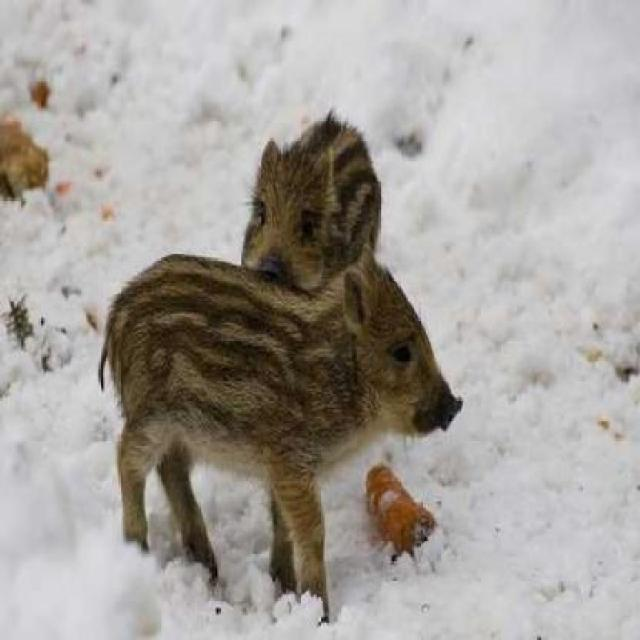Boar: (4, 245, 464, 569), (218, 85, 397, 309)
